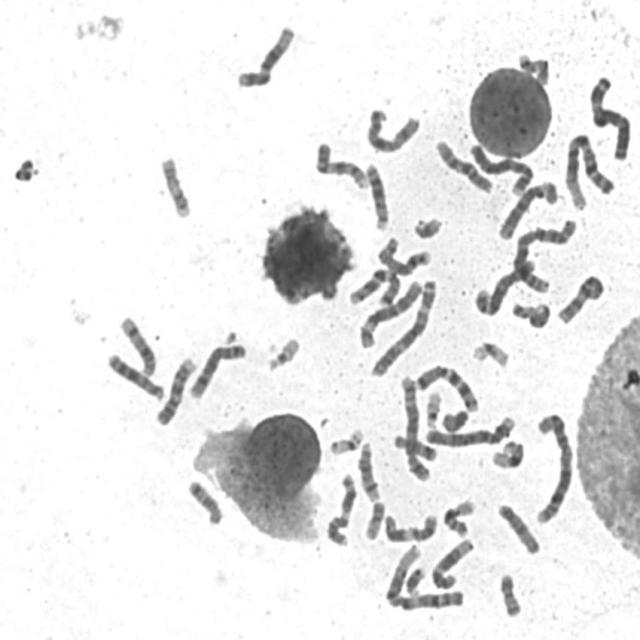A1: (382, 543, 466, 612), (559, 130, 616, 212)
A2: (530, 408, 576, 526), (511, 216, 578, 294)
A3: (366, 275, 439, 378), (586, 71, 632, 162)
B4: (466, 140, 536, 198), (421, 411, 516, 449)
B5: (471, 254, 538, 318), (397, 372, 431, 484)
C10: (432, 136, 495, 196), (554, 270, 606, 327)
C11: (322, 469, 358, 548), (380, 510, 439, 544)
C12: (232, 21, 298, 89), (427, 534, 476, 590)
C6: (355, 275, 424, 351), (494, 176, 559, 242)
C7: (411, 361, 480, 413), (344, 264, 403, 309)
C8: (186, 339, 248, 401), (373, 233, 433, 278)
C9: (152, 353, 198, 428), (312, 138, 370, 191)
D13: (103, 349, 166, 403), (361, 158, 391, 232)
D14: (116, 312, 158, 379), (354, 438, 383, 503)
D15: (493, 499, 542, 556), (390, 430, 439, 462)
E16: (440, 495, 477, 539), (487, 440, 525, 469)
E17: (157, 152, 192, 220), (515, 49, 550, 87)
E18: (184, 476, 224, 527), (507, 298, 552, 330)
F19: (469, 337, 511, 370), (325, 424, 365, 457)
F20: (496, 569, 524, 619), (361, 498, 386, 542)
G21: (410, 212, 444, 242), (404, 568, 424, 601)
G22: (263, 333, 302, 373), (422, 388, 444, 430)
X: (363, 104, 422, 156), (554, 270, 606, 327)
Y: (438, 407, 470, 432)
